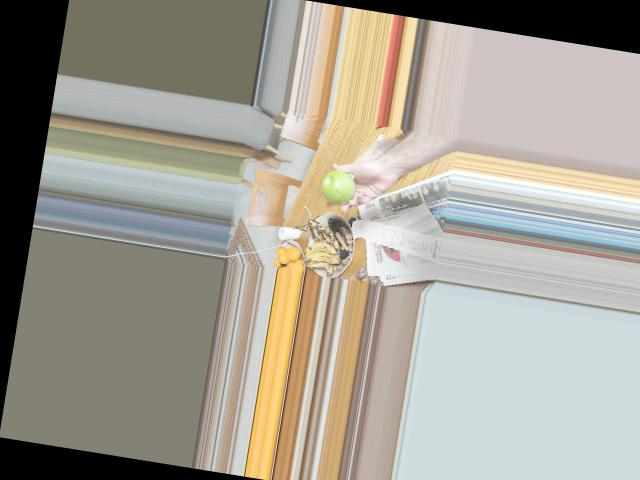apple: (317, 169, 359, 206)
